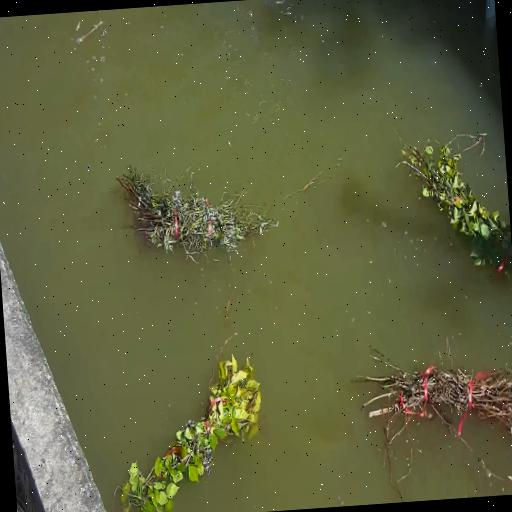twig: (106, 353, 271, 512), (368, 341, 512, 448), (118, 169, 270, 257), (408, 141, 510, 263)
